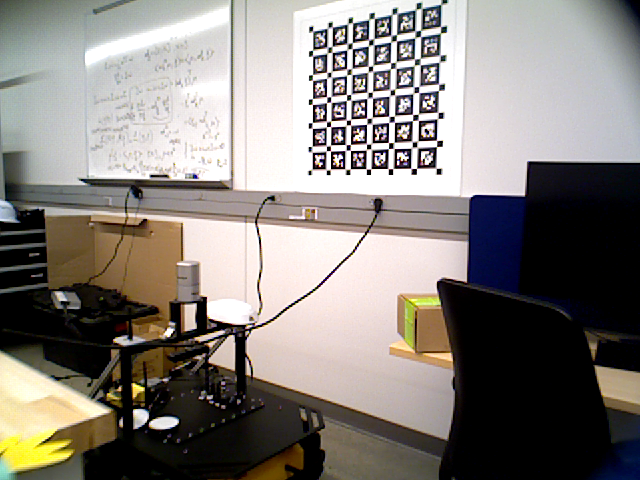painting4: (291, 1, 458, 198)
